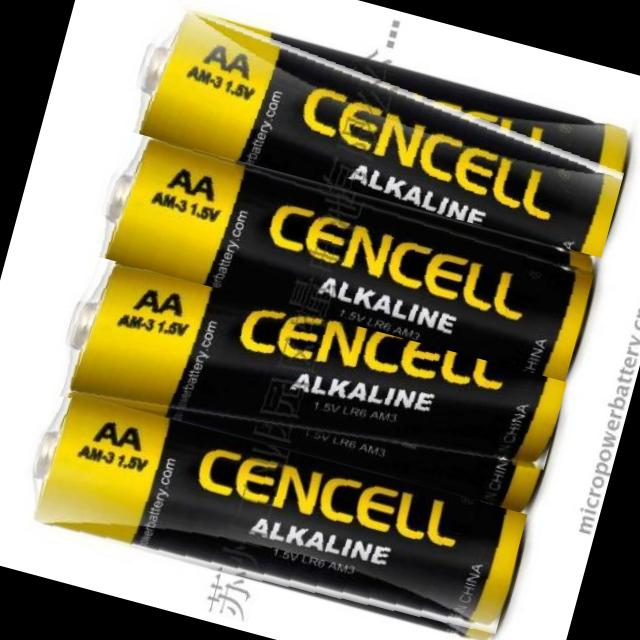Hazard: (48, 252, 567, 522), (119, 0, 637, 256), (11, 384, 527, 640), (84, 126, 599, 382)
